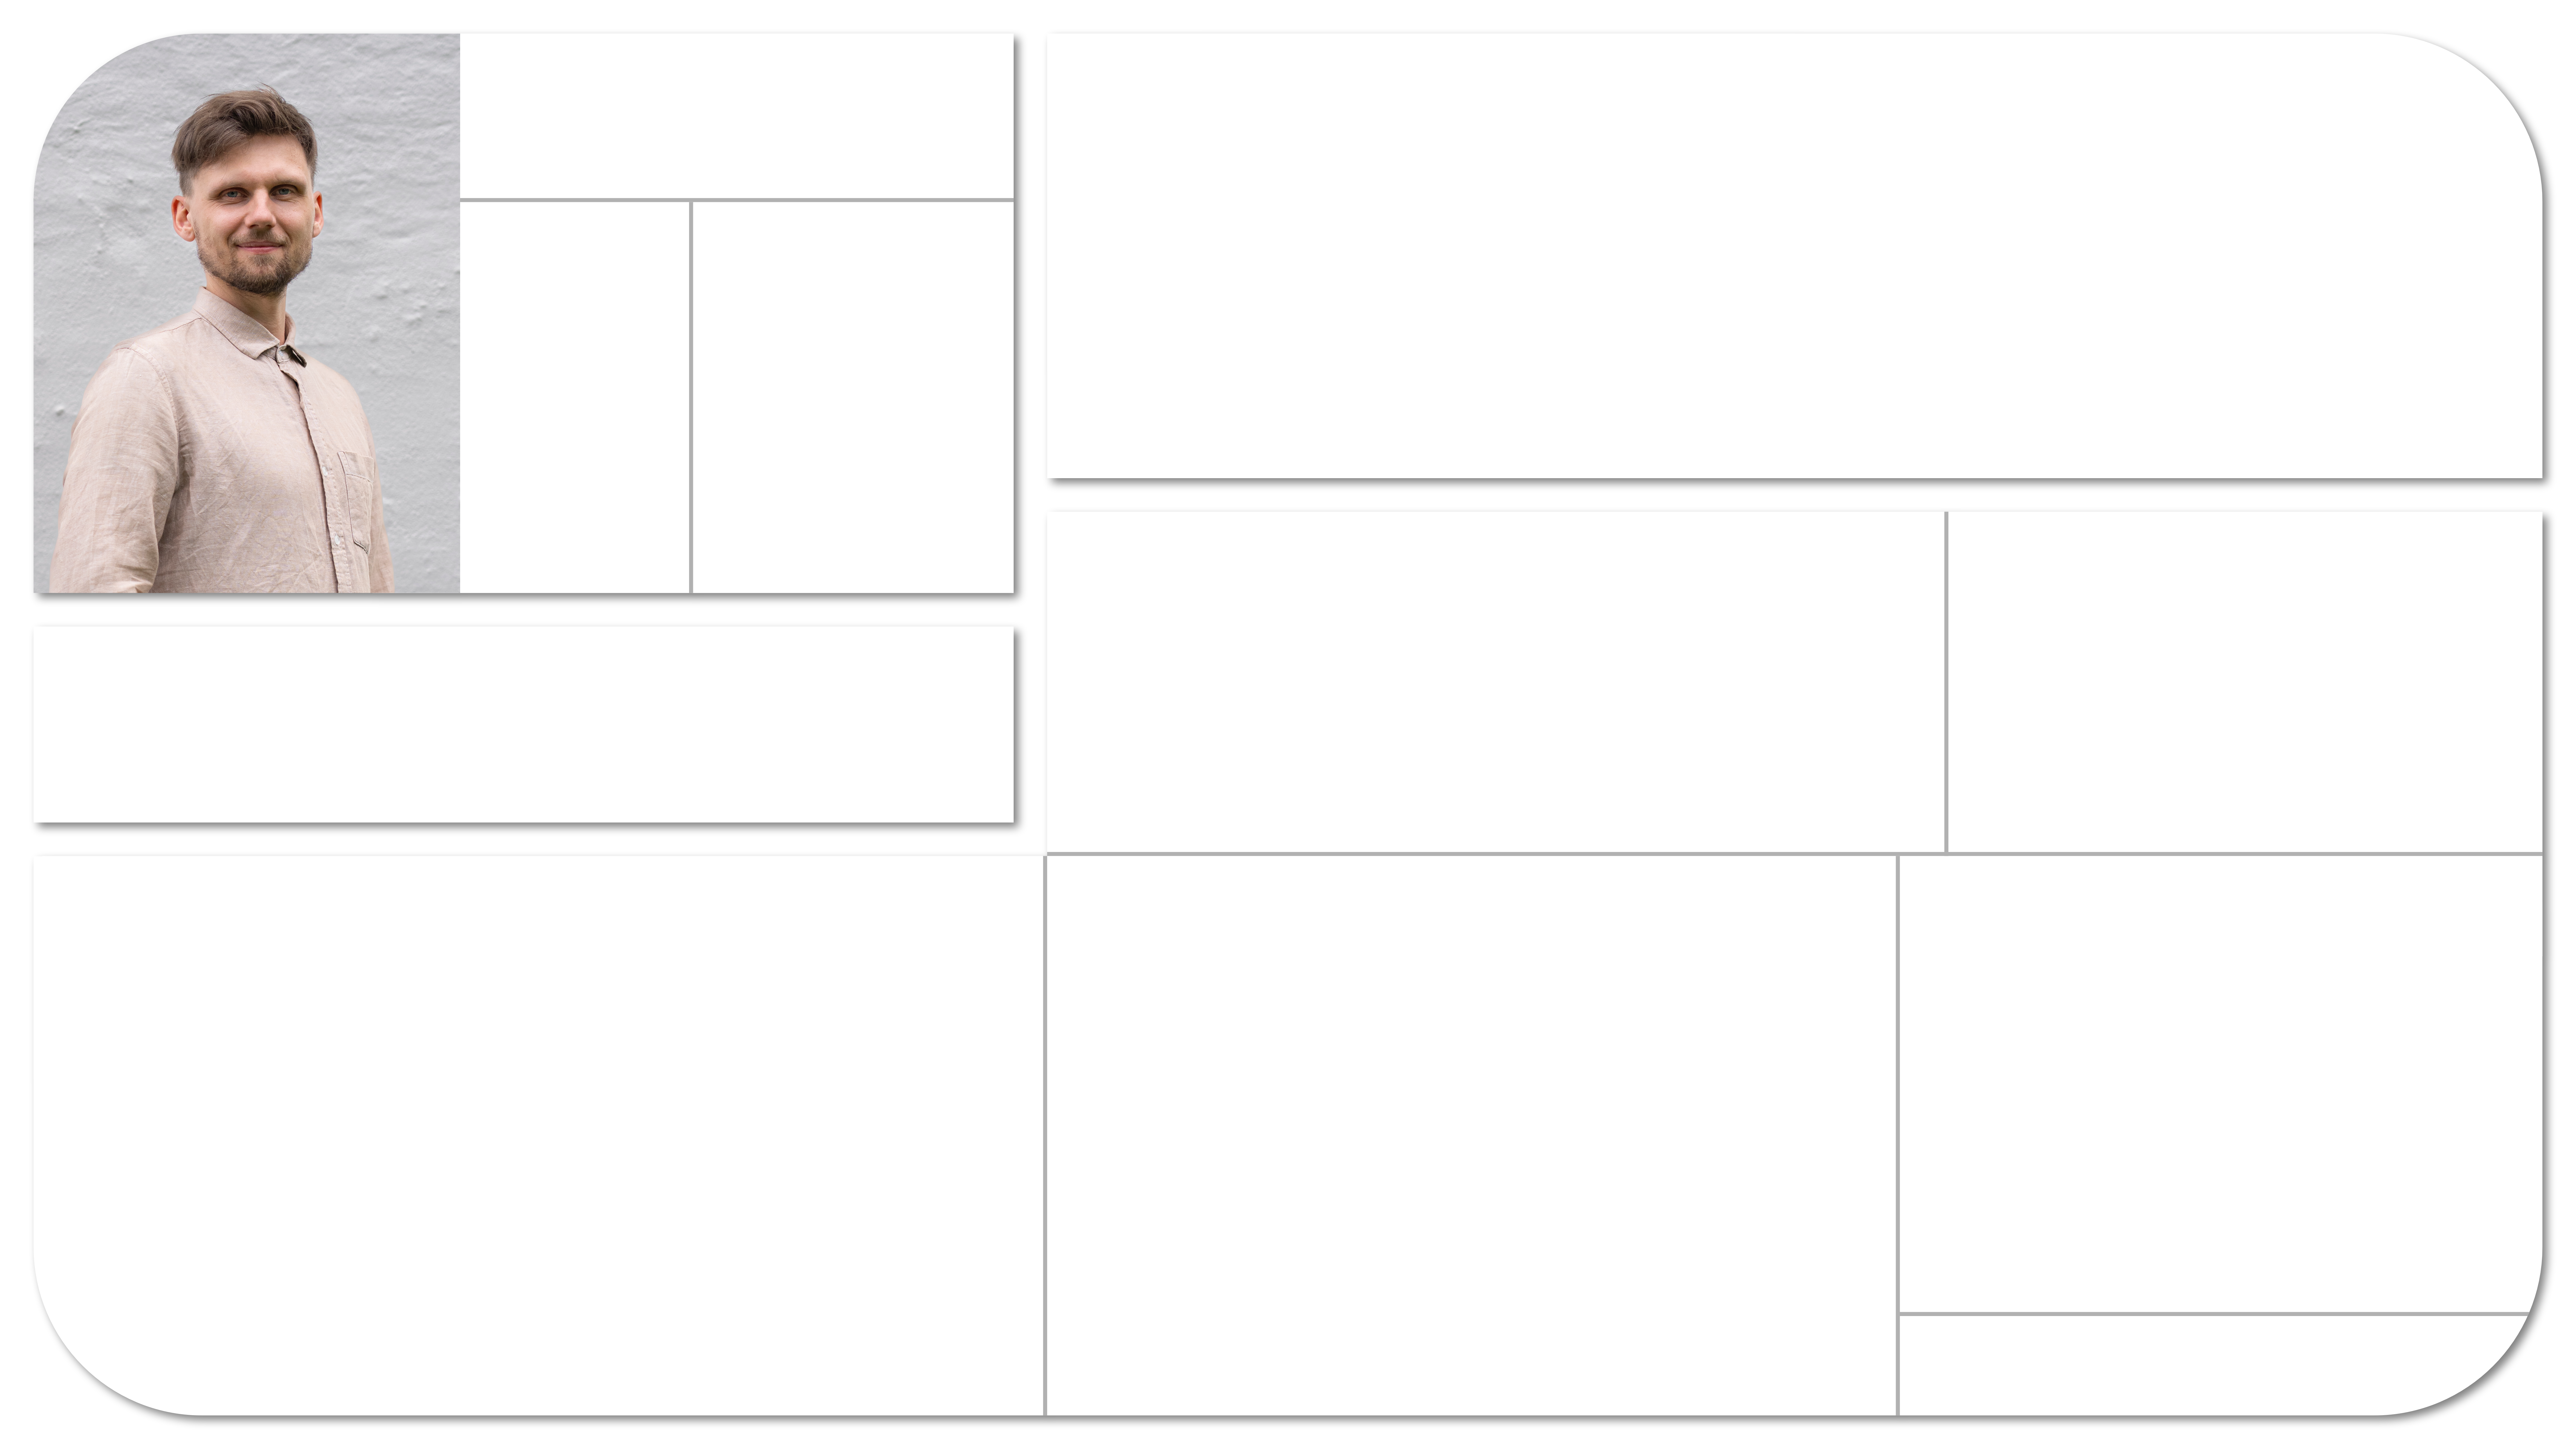

The dashboard page shown, as its layout file describes it:
{"tool":"tableau","page":{"name":"Dashboard_Visual-Resume","canvas":[1920,1080],"ordinal":0},"visuals":[{"type":"image","param":"Image/2021-06-08_rm380-15_cropped.jpg","box":[0,0,1920,1080]},{"type":"image","param":"Image/2026-06-02_Background-Panels.png","box":[50,50,1820,980]},{"type":"text","box":[401,74,373,109]},{"type":"text","box":[805,80,117,30]},{"type":"worksheet","title":"Timeline_Career-Path","mark":"Automatic","rows":["activity_title"],"cols":["start_date"],"box":[810,86,973,274]},{"type":"worksheet","title":"Map_Location","mark":"Multipolygon","box":[558,187,216,264]},{"type":"blank","box":[558,187,216,264]},{"type":"image","param":"Image/2025-12-18_Location-Pin.png","box":[636,190,25,25]},{"type":"image","param":"Image/2026-07-07_Icon_LinkedIn.png","box":[425,198,45,45]},{"type":"image","param":"Image/2026-01-09_Icon_Github.png","box":[487,198,45,45]},{"type":"image","param":"Image/2026-07-07_Icon_ORCID-iD.png","box":[425,253,45,45]},{"type":"image","param":"Image/2026-07-07_Icon_Scopus.png","box":[487,253,45,45]},{"type":"image","param":"Image/2026-04-10_Bubbles_Languages.png","box":[402,298,150,150]},{"type":"blank","box":[1581,319,208,45]},{"type":"text","box":[805,405,189,30]},{"type":"text","box":[1415,405,260,30]},{"type":"worksheet","title":"Card-Row_Portfolio-Highlights","mark":"Shape","cols":["project_title"],"box":[818,436,567,188]},{"type":"worksheet","title":"Card-Grid_Certificates","mark":"Shape","box":[1410,437,395,185]},{"type":"worksheet","title":"Buttons_Domain-Filter","mark":"Shape","cols":["domain_id"],"box":[116,482,654,119]},{"type":"blank","box":[112,628,682,380]},{"type":"worksheet","title":"Pie_Skills","mark":"Pie","box":[1375,630,433,307]},{"type":"text","box":[806,635,100,30]},{"type":"text","box":[1383,635,100,30]},{"type":"worksheet","title":"Text_Domain-Subtitle","mark":"Automatic","rows":["domain_id"],"box":[190,636,575,50]},{"type":"worksheet","title":"Treemap_Tools","mark":"Automatic","box":[802,659,564,349]},{"type":"worksheet","title":"Text_Hashtags","mark":"Automatic","rows":["domain_id"],"box":[190,672,575,46]},{"type":"worksheet","title":"Text_Domain-Description","mark":"Automatic","rows":["domain_id"],"box":[190,717,575,274]},{"type":"text","box":[1393,948,357,52]}]}

Visuals, with their boxes in screenshot pixels (x1, y1, x2, y2), scaled from the page's 1920x1080 canvas onto the 2576x1449 screenshot:
image: crop(0, 0, 2576, 1449)
image: crop(67, 67, 2509, 1382)
text: crop(538, 99, 1038, 245)
text: crop(1080, 107, 1237, 147)
"Timeline_Career-Path" worksheet: crop(1087, 115, 2392, 483)
"Map_Location" worksheet (Multipolygon marks): crop(749, 251, 1038, 605)
blank: crop(749, 251, 1038, 605)
image: crop(853, 255, 887, 289)
image: crop(570, 266, 630, 326)
image: crop(653, 266, 714, 326)
image: crop(570, 339, 630, 400)
image: crop(653, 339, 714, 400)
image: crop(539, 400, 741, 601)
blank: crop(2121, 428, 2400, 488)
text: crop(1080, 544, 1334, 584)
text: crop(1899, 544, 2247, 584)
"Card-Row_Portfolio-Highlights" worksheet (Shape marks): crop(1097, 585, 1858, 837)
"Card-Grid_Certificates" worksheet (Shape marks): crop(1892, 586, 2422, 835)
"Buttons_Domain-Filter" worksheet (Shape marks): crop(156, 647, 1033, 806)
blank: crop(150, 843, 1065, 1352)
"Pie_Skills" worksheet (Pie marks): crop(1845, 845, 2426, 1257)
text: crop(1081, 852, 1216, 892)
text: crop(1855, 852, 1990, 892)
"Text_Domain-Subtitle" worksheet: crop(255, 853, 1027, 920)
"Treemap_Tools" worksheet: crop(1076, 884, 1833, 1352)
"Text_Hashtags" worksheet: crop(255, 902, 1027, 963)
"Text_Domain-Description" worksheet: crop(255, 962, 1027, 1330)
text: crop(1869, 1272, 2348, 1342)
